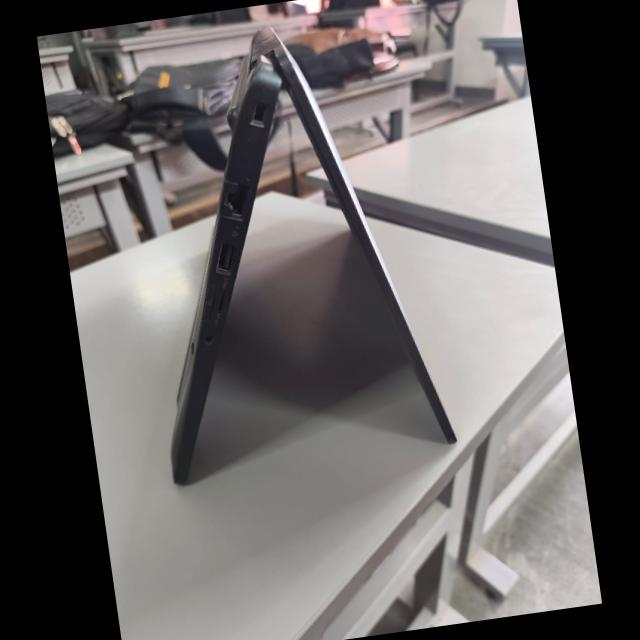laptop: (96, 12, 490, 514)
